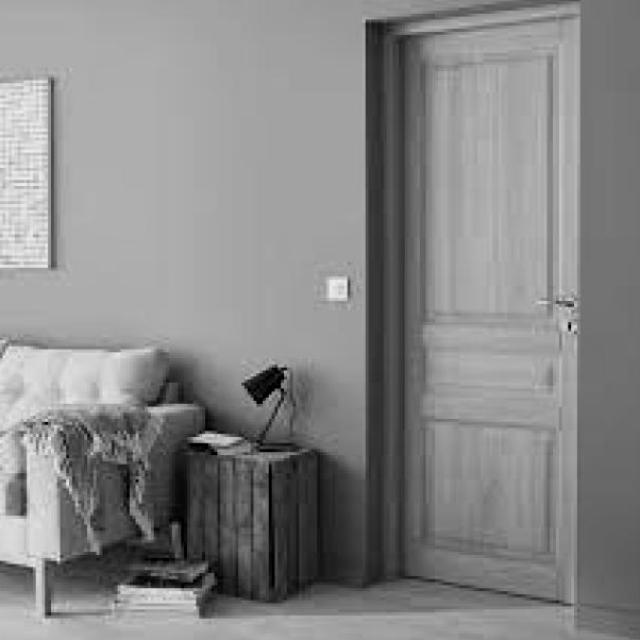door: (397, 8, 579, 604)
